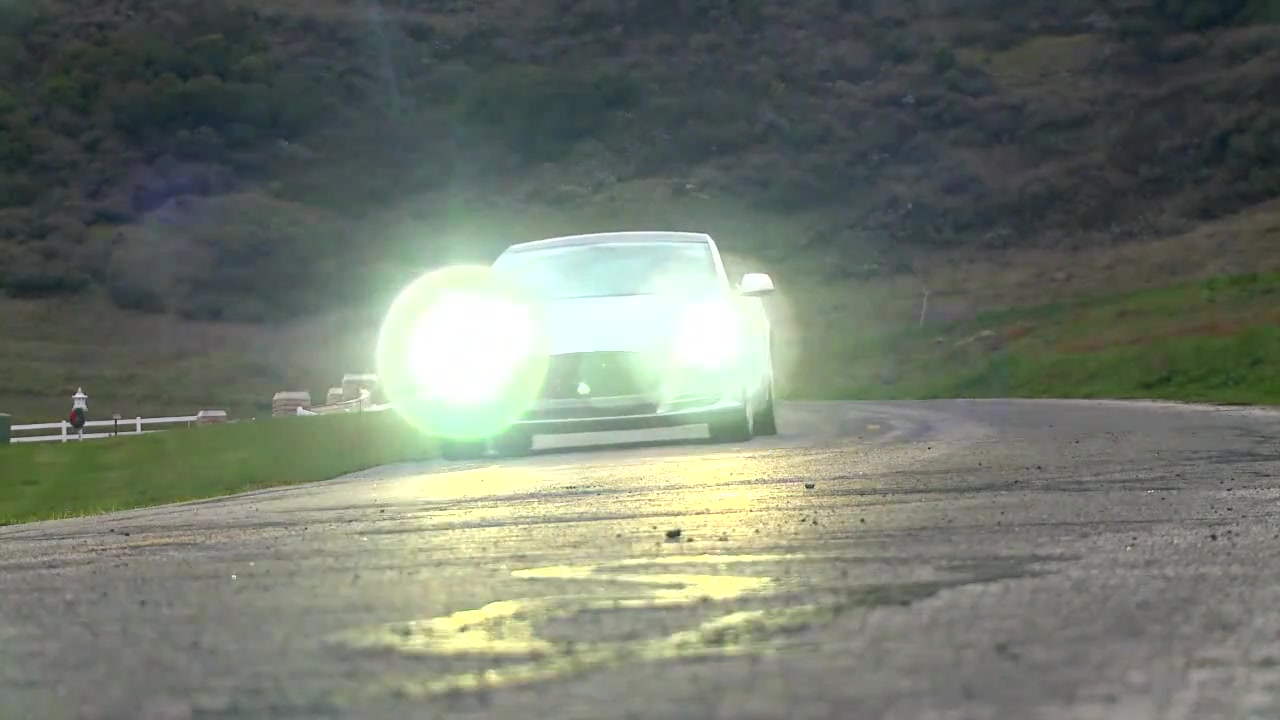car: (438, 223, 783, 460)
